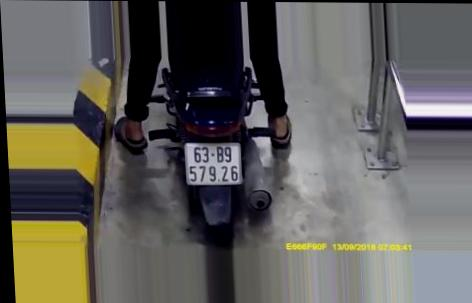License_Plate: (175, 138, 247, 190)
